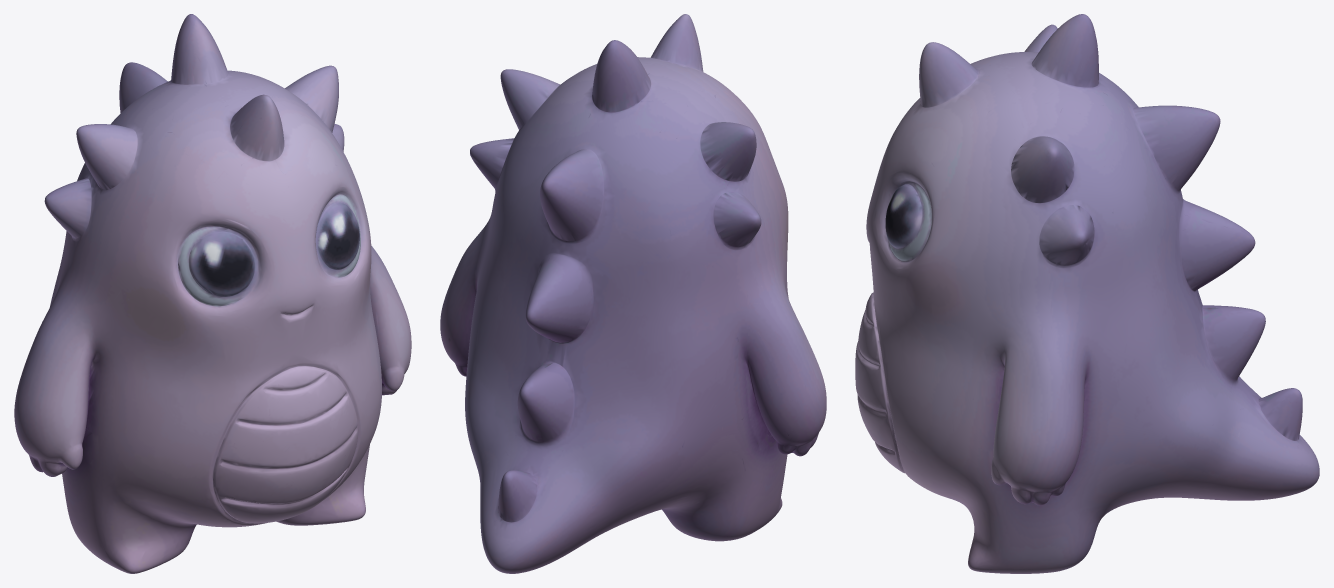
The model's file is stage_3.glb.
3 renders of one model, left to right at view 1: azimuth 30°, elevation 25°; view 2: azimuth 150°, elevation 25°; view 3: azimuth 270°, elevation 25°, orthographic. The views are drawn at different scales.
Parts seen in each view (by area): view 1: convert; view 2: convert; view 3: convert.
Part boxes in pixels (<box>): convert: <box>14,14,411,573</box>; convert: <box>440,14,826,573</box>; convert: <box>855,14,1319,573</box>.
Bounding box in the file's own units: 0.8181 × 0.9996 × 0.8418.
1 material, 1 textured.
